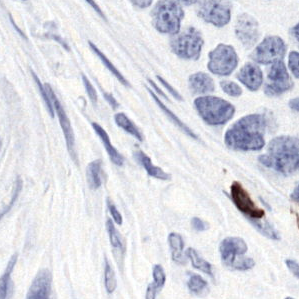Lymphocyte: (230, 180, 266, 220)
